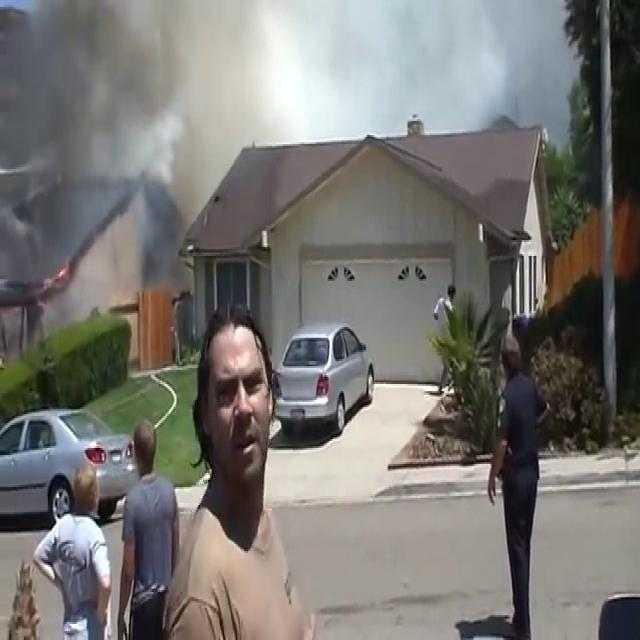Smoke: (14, 0, 560, 154), (0, 0, 196, 299)
